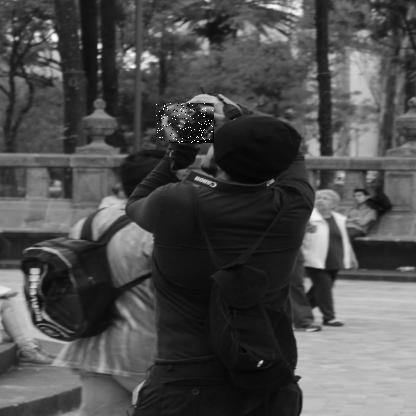Camera: (157, 104, 216, 145)
